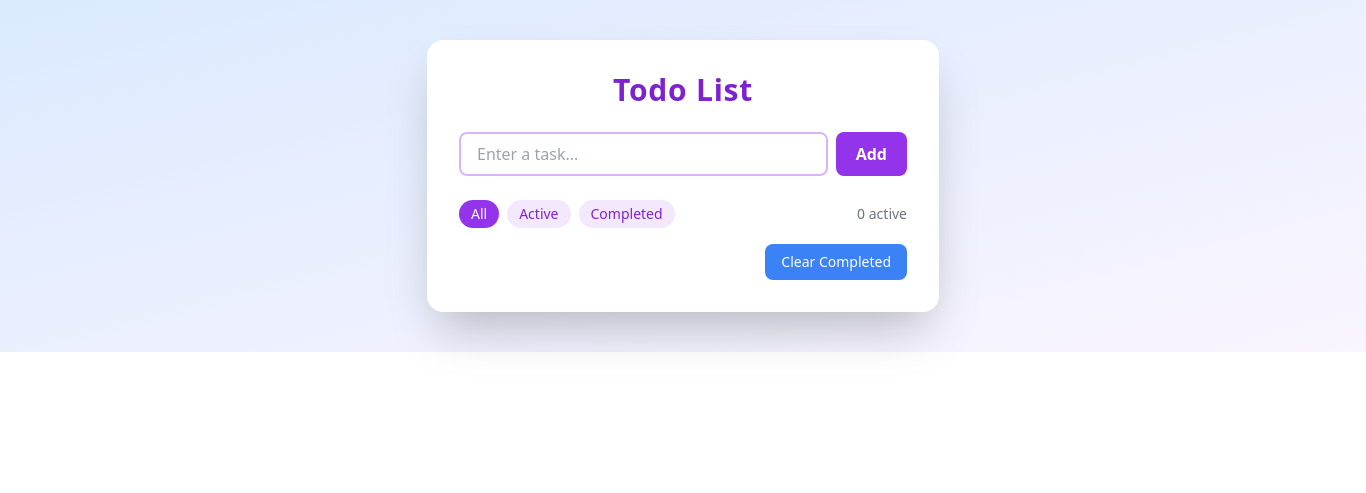
Test: TodoList Component › filters todos correctly
The image size is (1366, 493).
Step 1. Type "Active Task" into the field with placeholder "Enter a task..." → [643, 154], box [459,132,828,176]
Step 2. Click the button "Add" → [871, 154], box [836,132,907,176]
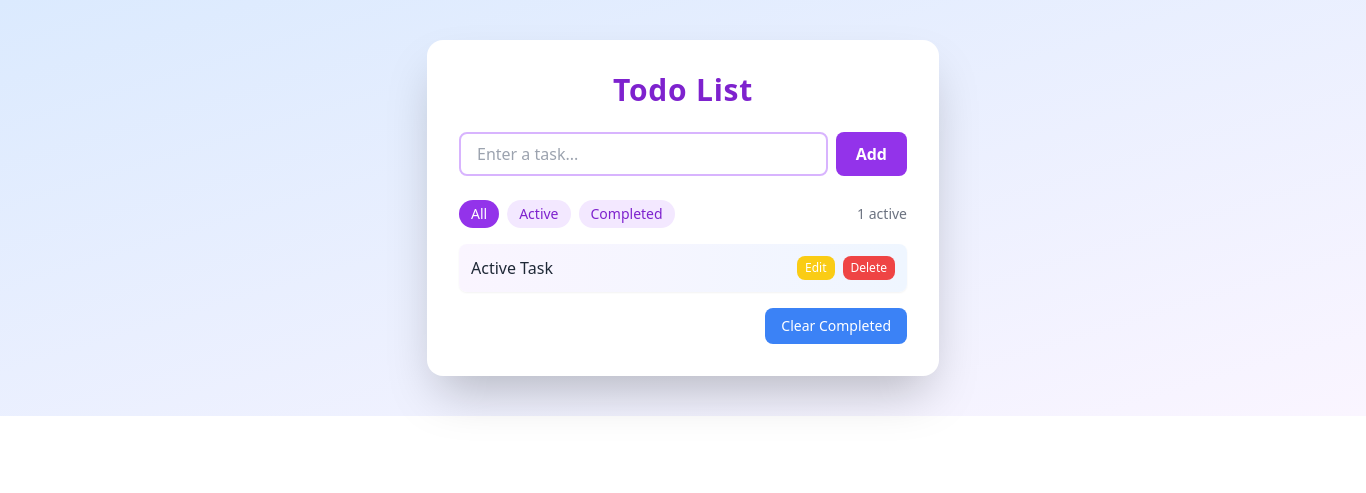
Step 3. Type "Completed Task" into the field with placeholder "Enter a task..." → [643, 154], box [459,132,828,176]
Step 4. Click the button "Add" → [871, 154], box [836,132,907,176]
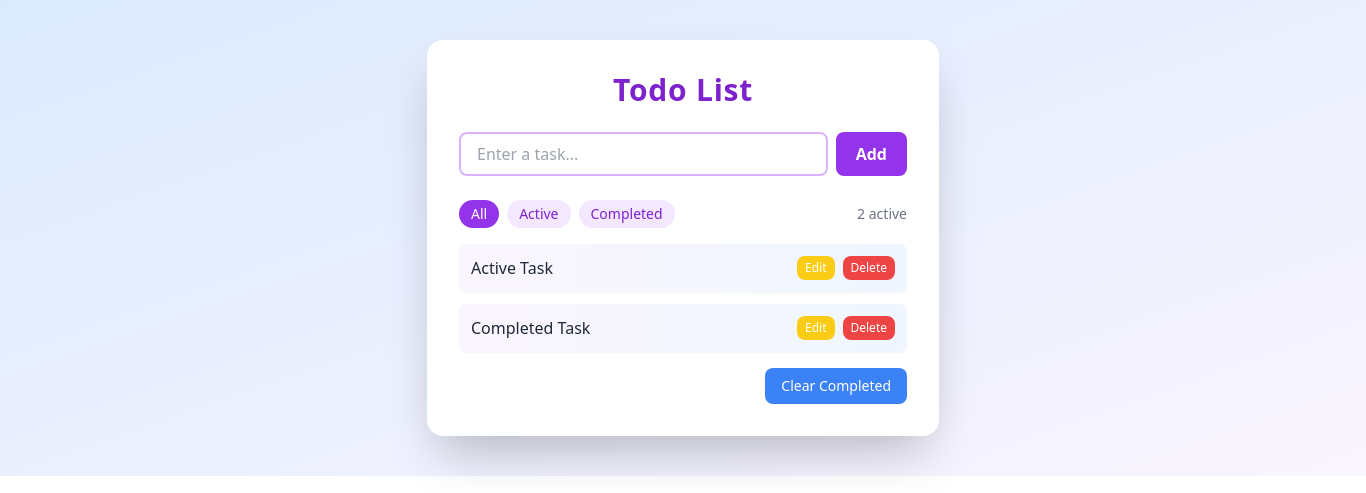
Step 5. Click the text "Completed Task" → [531, 328], box [471,317,590,339]
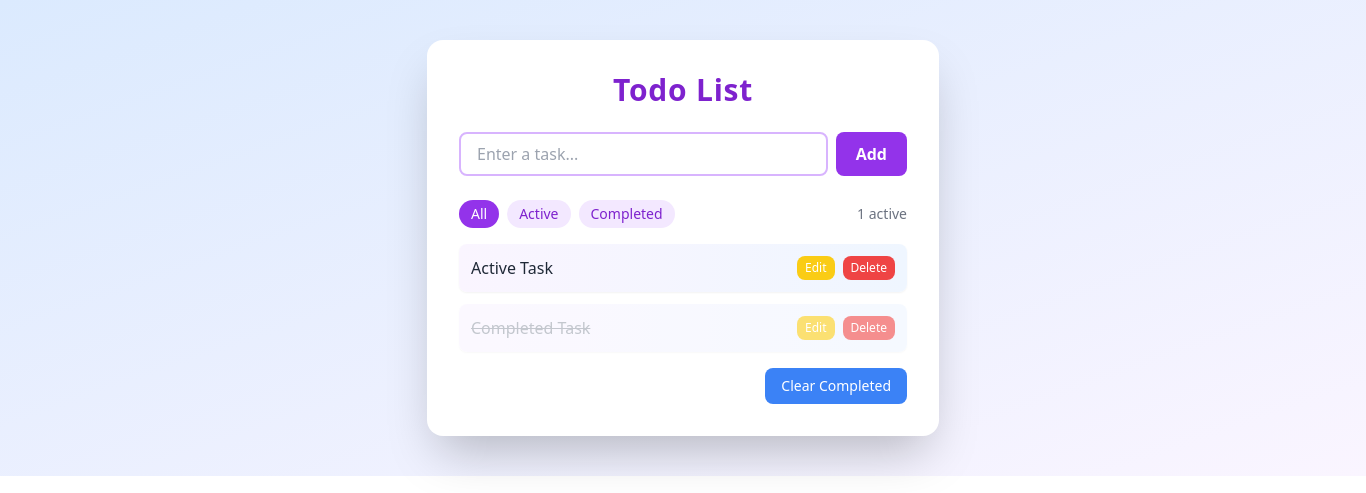
# Test "Active" filter
Step 6. Click the button "Active" → [539, 214], box [507,200,570,228]
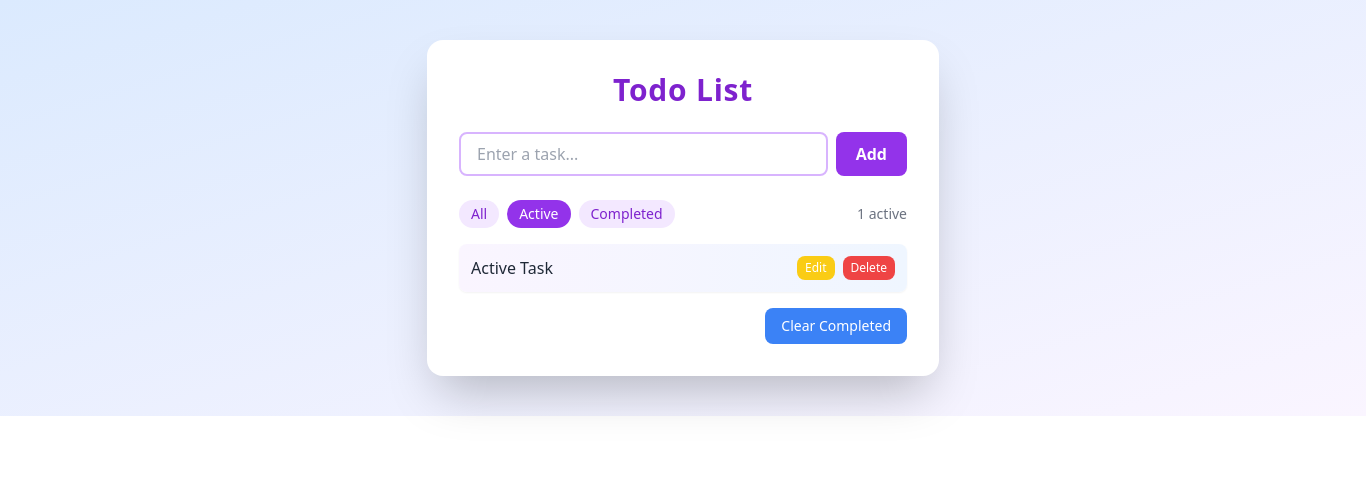
Expected: the text "Active Task" is shown, [471,257,553,279]
Expected: the text "Completed Task" is gone
# Test "Completed" filter
Step 7. Click the button "Completed" → [627, 214], box [578,200,675,228]
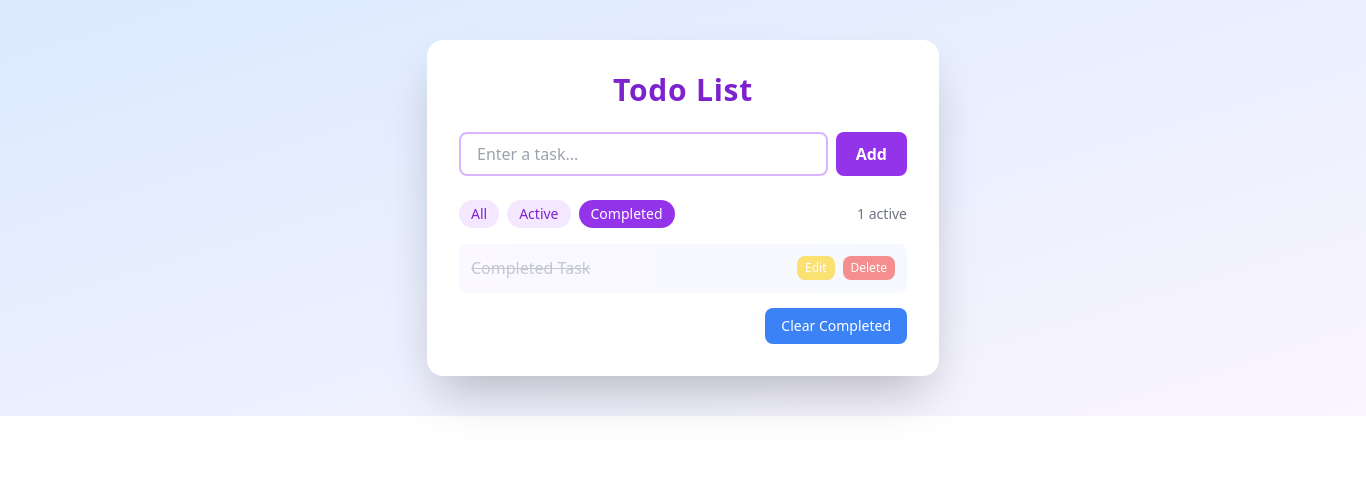
Expected: the text "Active Task" is gone
Expected: the text "Completed Task" is shown, [471,257,590,279]
# Test "All" filter
Step 8. Click the button "All" → [479, 214], box [459,200,499,228]
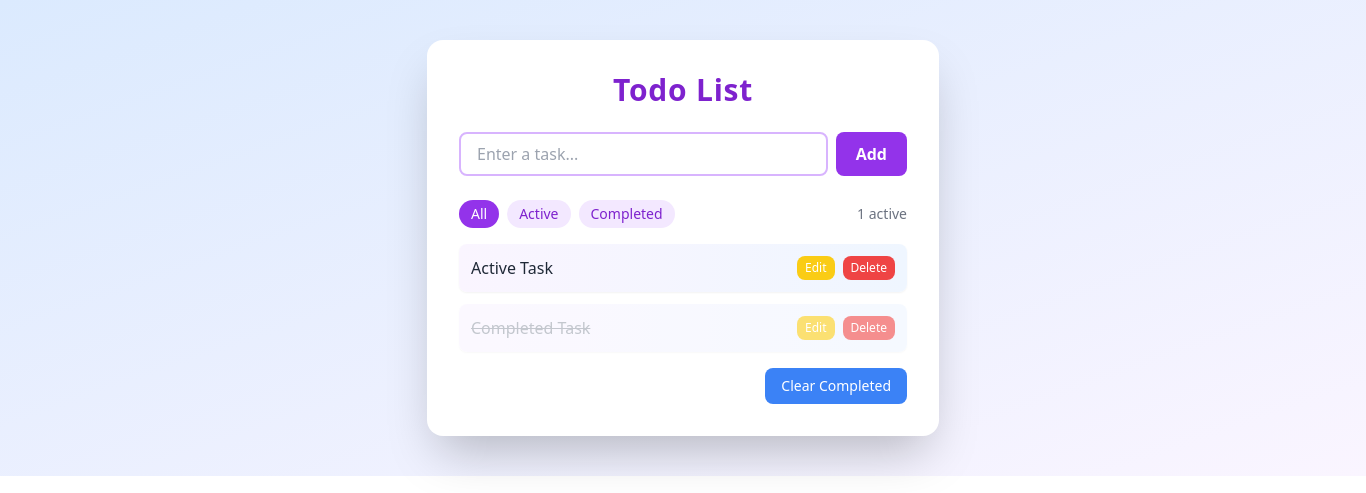
Expected: the text "Completed Task" is shown, [471,317,590,339]
Expected: the text "Active Task" is shown, [471,257,553,279]
